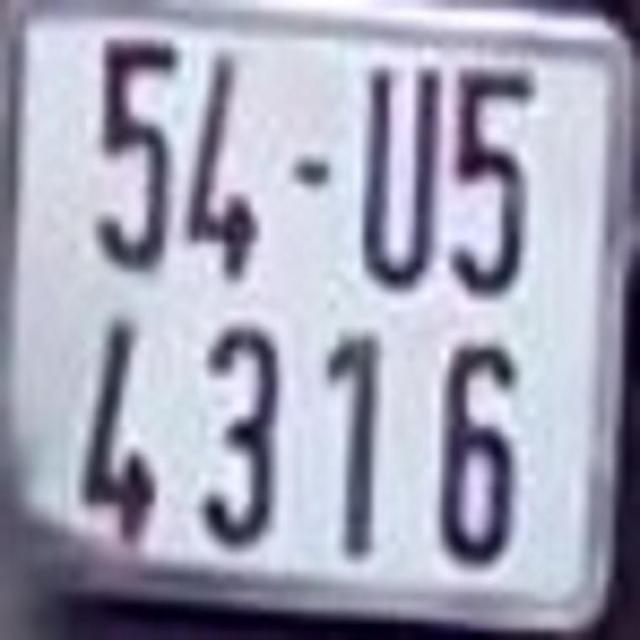1: (328, 327, 380, 560)
3: (206, 320, 277, 547)
4: (76, 315, 161, 543), (189, 50, 261, 282)
5: (455, 59, 538, 298), (97, 33, 178, 273)
6: (436, 343, 520, 564)
U: (357, 55, 445, 291)
